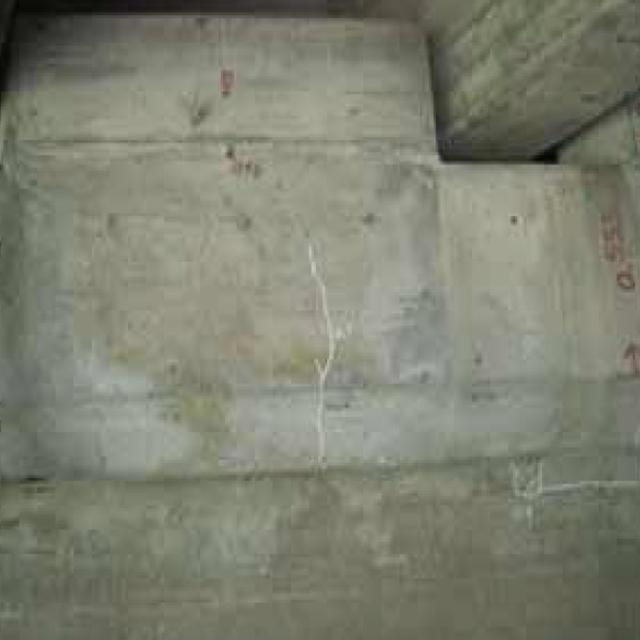crack: (299, 245, 340, 476)
